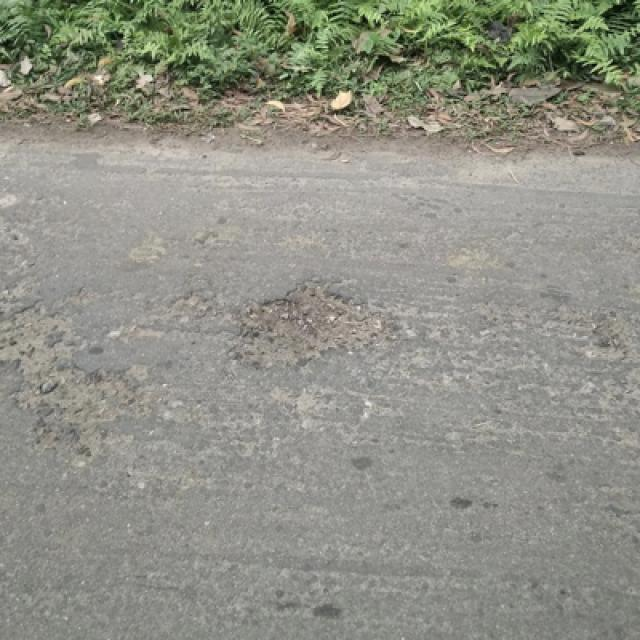objects: (245, 290, 393, 361)
